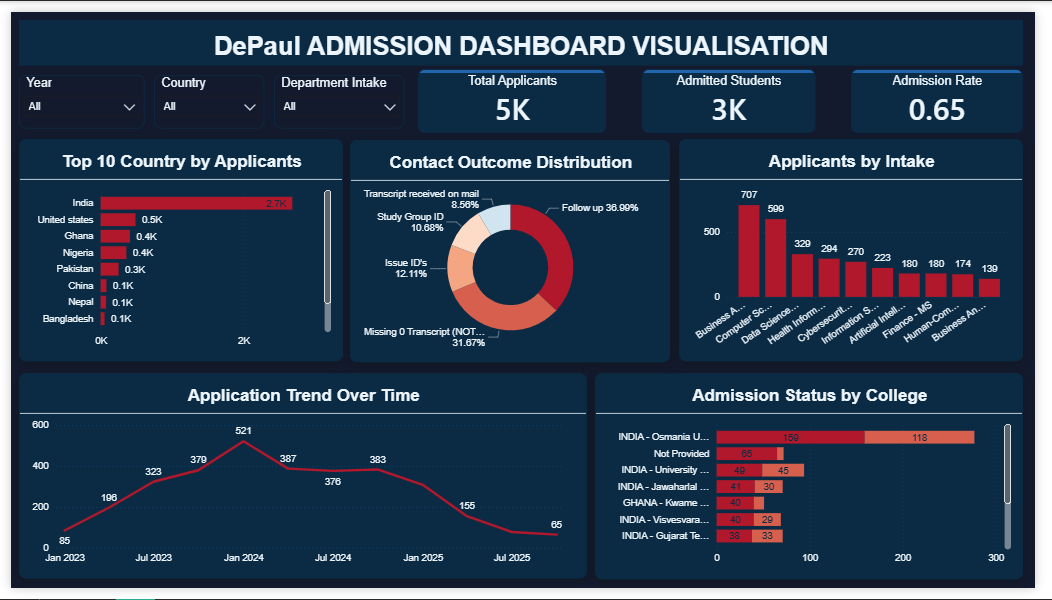

The dashboard page shown, as its layout file describes it:
{"tool":"powerbi","page":{"name":"Page 1","canvas":[1280,720],"ordinal":0},"visuals":[{"type":"cardVisual","fields":{"Data":["ApplicantTable1.Total Applicants"]},"box":[508.3,71.7,235,80],"z":0},{"type":"cardVisual","fields":{"Data":["ApplicantTable1.Admission Rate"]},"box":[1050,71.7,215,80],"z":1000},{"type":"cardVisual","fields":{"Data":["ApplicantTable1.Admitted Students"]},"box":[788.3,71.7,216.7,80],"z":2000},{"type":"barChart","title":"Top 10 Country by Applicants","fields":{"Category":["ApplicantTable1.Country"],"Y":["CountNonNull(ApplicantTable1.Reference_ID)"]},"box":[10,158.3,405,278.3],"z":3000},{"type":"columnChart","title":"Applicants by Intake","fields":{"Y":["ApplicantTable1.Total Applicants"],"Category":["ApplicantTable1.Department_Intake"]},"box":[835,158.3,430,278.3],"z":4000},{"type":"lineChart","title":"Application Trend Over Time","fields":{"Category":["ApplicantTable1.Admit_Date.Variation.Date Hierarchy.Year","ApplicantTable1.Admit_Date.Variation.Date Hierarchy.Quarter"],"Y":["ApplicantTable1.Total Applicants"]},"box":[10,451.7,710,256.7],"z":5000},{"type":"barChart","title":"Admission Status by College","fields":{"Category":["ApplicantTable1.College"],"Y":["ApplicantTable1.Total Applicants","ApplicantTable1.Admitted Students"]},"box":[730,451.2,535,257.5],"z":6000},{"type":"donutChart","title":"Contact Outcome Distribution","fields":{"Y":["CountNonNull(ContactTable2.Reference_ID-2)"],"Category":["ContactTable2.Outcome_1"]},"box":[423.8,160,400,277.5],"z":7000},{"type":"textbox","box":[10,10,1255,56.7],"z":8000},{"type":"slicer","fields":{"Values":["ApplicantTable1.Admit_Date.Variation.Date Hierarchy.Year"]},"box":[10,78.3,156.7,66.7],"z":9000},{"type":"slicer","fields":{"Values":["ApplicantTable1.Country"]},"box":[178.3,78.3,138.3,66.7],"z":10000},{"type":"slicer","fields":{"Values":["ApplicantTable1.Department_Intake"]},"box":[328.3,78.3,163.3,66.7],"z":11000}]}

Visuals, with their boxes in screenshot pixels (x1, y1, x2, y2), scaled from the page's 1280x720 canvas onto the 1052x600 screenshot:
cardVisual - ApplicantTable1.Total Applicants: {"x1": 418, "y1": 60, "x2": 611, "y2": 126}
cardVisual - ApplicantTable1.Admission Rate: {"x1": 863, "y1": 60, "x2": 1040, "y2": 126}
cardVisual - ApplicantTable1.Admitted Students: {"x1": 648, "y1": 60, "x2": 826, "y2": 126}
"Top 10 Country by Applicants" barChart: {"x1": 8, "y1": 132, "x2": 341, "y2": 364}
"Applicants by Intake" columnChart: {"x1": 686, "y1": 132, "x2": 1040, "y2": 364}
"Application Trend Over Time" lineChart: {"x1": 8, "y1": 376, "x2": 592, "y2": 590}
"Admission Status by College" barChart: {"x1": 600, "y1": 376, "x2": 1040, "y2": 591}
"Contact Outcome Distribution" donutChart: {"x1": 348, "y1": 133, "x2": 677, "y2": 365}
textbox: {"x1": 8, "y1": 8, "x2": 1040, "y2": 56}
slicer - ApplicantTable1.Admit_Date.Variation.Date Hierarchy.Year: {"x1": 8, "y1": 65, "x2": 137, "y2": 121}
slicer - ApplicantTable1.Country: {"x1": 147, "y1": 65, "x2": 260, "y2": 121}
slicer - ApplicantTable1.Department_Intake: {"x1": 270, "y1": 65, "x2": 404, "y2": 121}
